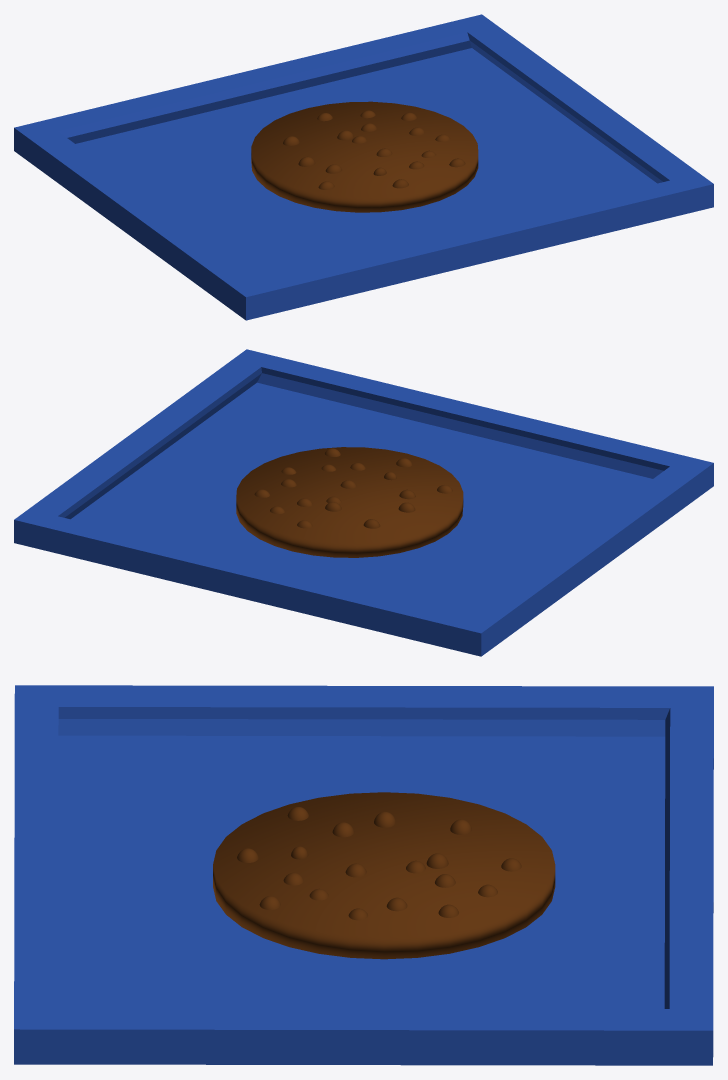
Rendered from cookie.glb.
3 renders of one model, top to bottom at view 1: azimuth 30°, elevation 25°; view 2: azimuth 150°, elevation 25°; view 3: azimuth 270°, elevation 25°, orthographic. The views are drawn at different scales.
Parts seen in each view (by area): view 1: Tray, Cookie; view 2: Tray, Cookie; view 3: Tray, Cookie.
Part boxes in pixels (x1,y1,x2,y2): Tray: [14, 14, 713, 320]; Cookie: [251, 101, 478, 212]; Tray: [14, 349, 713, 656]; Cookie: [236, 447, 463, 557]; Tray: [14, 685, 713, 1065]; Cookie: [213, 792, 555, 959].
Bounding box in the file's own units: 15.91 × 0.9546 × 13.7.
